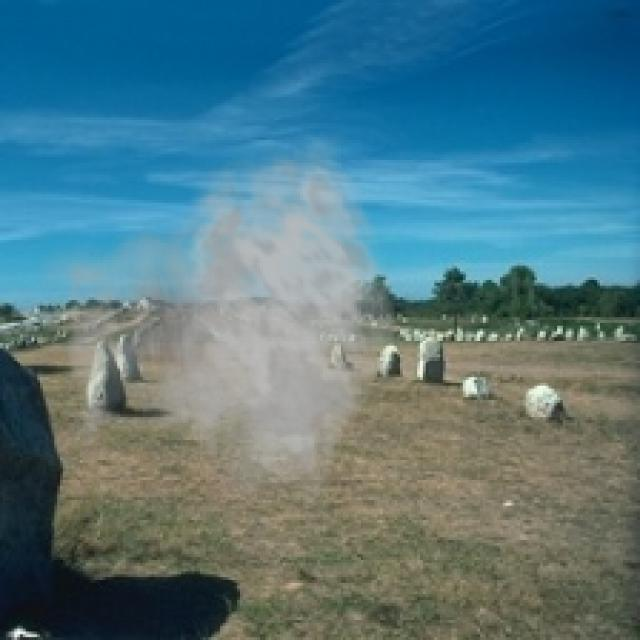smoke: (32, 137, 397, 517)
